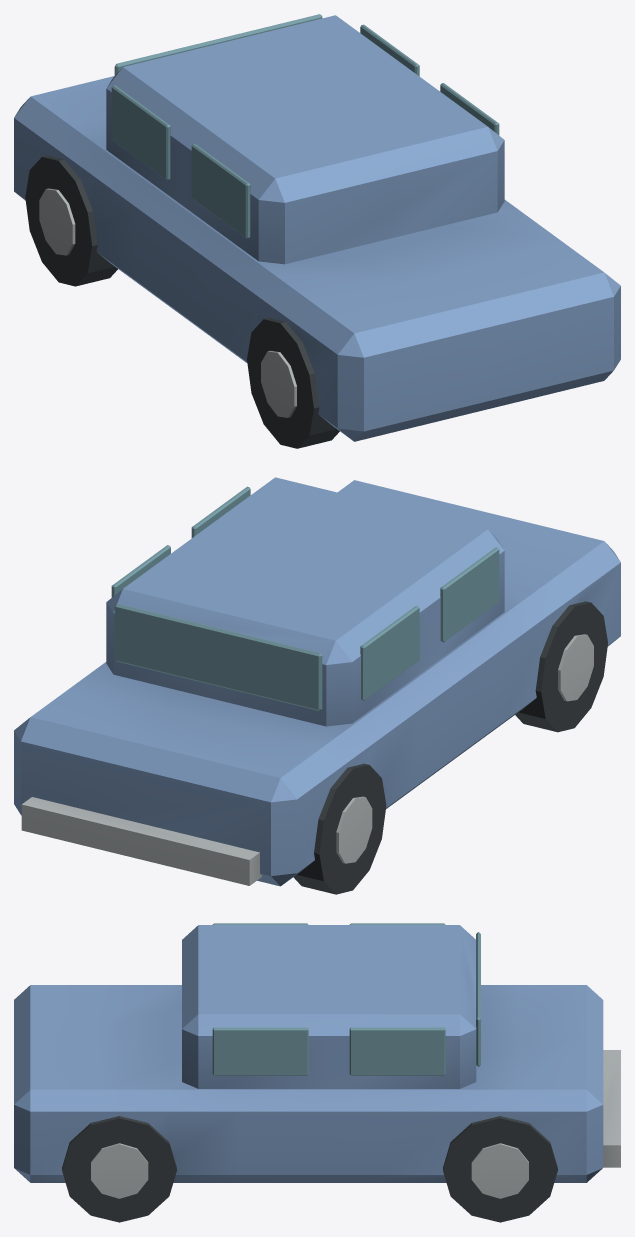
Rendered from sm_vehicle_parked_sedan_refined.glb.
3 views of the same model, one above another, from view 1: azimuth 30°, elevation 25°; view 2: azimuth 150°, elevation 25°; view 3: azimuth 270°, elevation 25° (orthographic). The views are drawn at different scales.
Visible parts, largest first — view 1: Body, Cabin, Wheel, Wheel.001, SideWindow, SideWindow.001, Rim, Rim.001, Windshield, SideWindow.003, SideWindow.002; view 2: Body, Cabin, Windshield, Bumper, Wheel, Wheel.001, SideWindow.001, SideWindow, Rim, Rim.001, SideWindow.002, SideWindow.003; view 3: Body, Cabin, Wheel.003, Wheel.002, SideWindow.002, SideWindow.003, Rim.002, Rim.003, Bumper, Windshield.
Part boxes in pixels (x1,y1,x2,y2): Body: [14, 76, 620, 441]; Cabin: [106, 15, 504, 264]; Wheel: [25, 155, 117, 286]; Wheel.001: [247, 318, 339, 448]; SideWindow: [111, 85, 170, 180]; SideWindow.001: [191, 143, 250, 238]; Rim: [39, 188, 75, 255]; Rim.001: [261, 350, 296, 417]; Windshield: [114, 14, 322, 75]; SideWindow.003: [440, 83, 499, 135]; SideWindow.002: [360, 24, 419, 76]; Body: [14, 480, 620, 886]; Cabin: [106, 477, 504, 726]; Windshield: [114, 603, 322, 710]; Bumper: [21, 797, 262, 885]; Wheel: [293, 763, 386, 894]; Wheel.001: [515, 601, 607, 732]; SideWindow.001: [440, 547, 499, 642]; SideWindow: [360, 605, 419, 700]; Rim: [336, 796, 372, 863]; Rim.001: [558, 634, 593, 701]; SideWindow.002: [111, 545, 170, 597]; SideWindow.003: [191, 486, 250, 537]; Body: [14, 985, 603, 1182]; Cabin: [182, 925, 476, 1088]; Wheel.003: [62, 1116, 176, 1222]; Wheel.002: [443, 1116, 557, 1222]; SideWindow.002: [349, 1027, 445, 1075]; SideWindow.003: [212, 1027, 308, 1075]; Rim.002: [471, 1143, 528, 1198]; Rim.003: [91, 1143, 148, 1198]; Bumper: [603, 1050, 620, 1167]; Windshield: [476, 932, 480, 1066].
Bounding box in the file's own units: 2.17 × 1.54 × 4.43.
